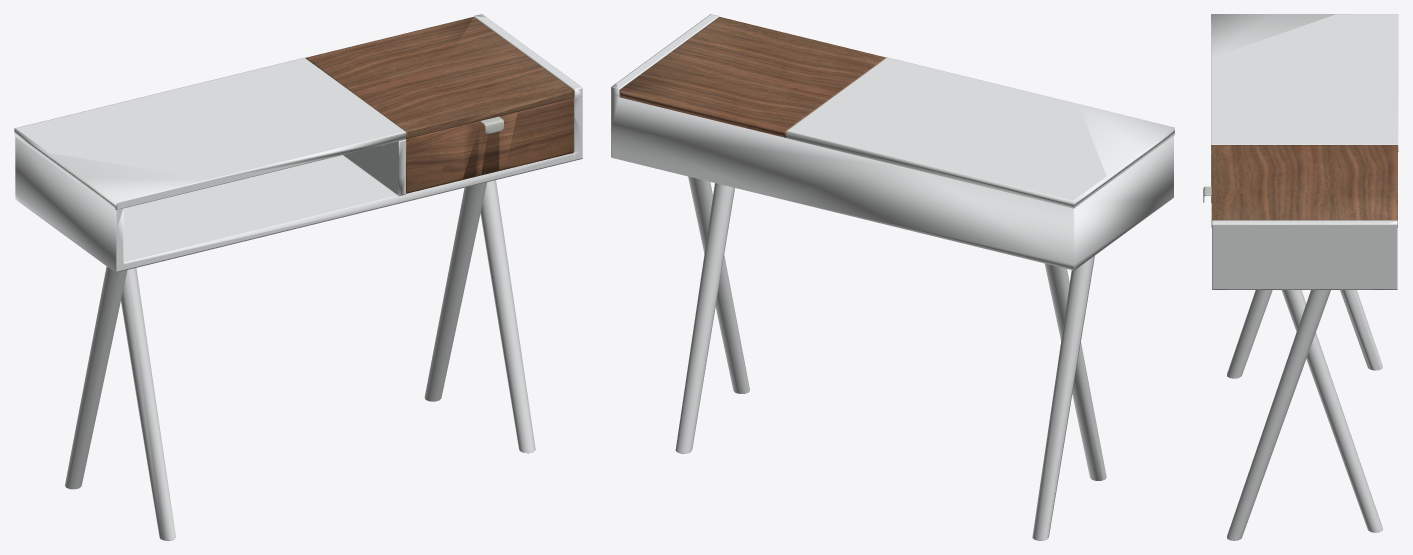
The model's file is B075Z7HQK5.glb.
3 renders of one model, left to right at view 1: azimuth 30°, elevation 25°; view 2: azimuth 150°, elevation 25°; view 3: azimuth 270°, elevation 25°, orthographic. The views are drawn at different scales.
Visible parts, largest first — view 1: RootNode; view 2: RootNode; view 3: RootNode.
Boxes of the visible parts, x1,y1,x2,y2 form: RootNode: (14, 14, 582, 540); RootNode: (611, 14, 1174, 540); RootNode: (1203, 14, 1398, 540).
Size of the model in its own units: 1.07 by 0.7854 by 0.4177.
Materials: 1 (1 with a texture image).
